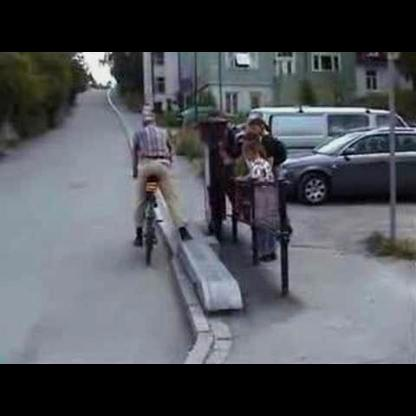Bicycle: (121, 156, 177, 266)
